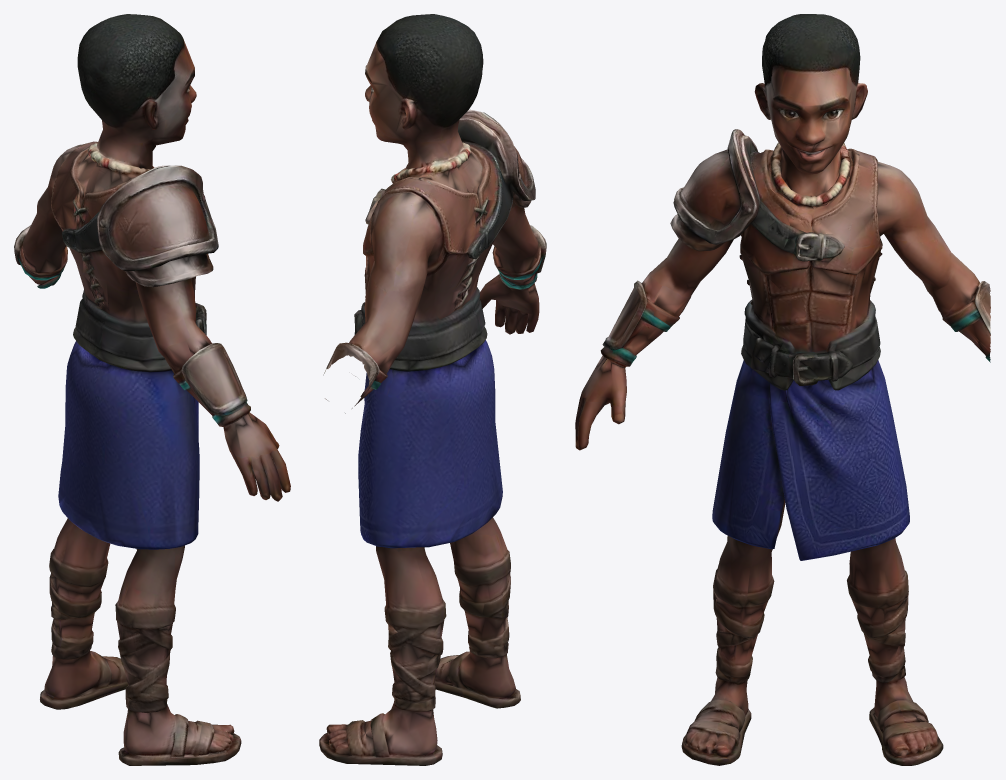
Rendered from warrior-static.glb.
3 views of the same model, side by side, from view 1: azimuth 30°, elevation 25°; view 2: azimuth 150°, elevation 25°; view 3: azimuth 270°, elevation 25° (orthographic).
Visible parts, largest first — view 1: tripo_node_5b3d0383-c261-470c-90ce-553f828043f8; view 2: tripo_node_5b3d0383-c261-470c-90ce-553f828043f8; view 3: tripo_node_5b3d0383-c261-470c-90ce-553f828043f8.
Boxes of the visible parts, x1,y1,x2,y2 form: tripo_node_5b3d0383-c261-470c-90ce-553f828043f8: (14,14,290,765); tripo_node_5b3d0383-c261-470c-90ce-553f828043f8: (319,14,546,765); tripo_node_5b3d0383-c261-470c-90ce-553f828043f8: (575,14,990,765).
Bounding box in the file's own units: 0.1817 × 0.9313 × 0.4902.
1 material, 1 textured.
